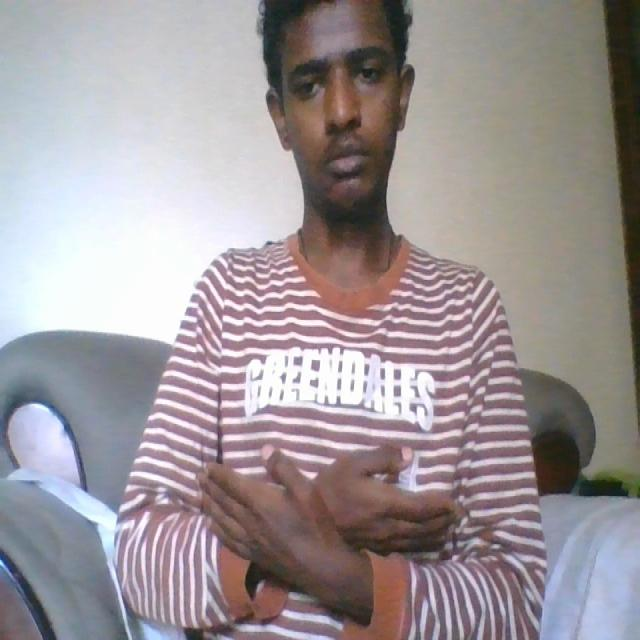lij: (192, 438, 468, 600)
